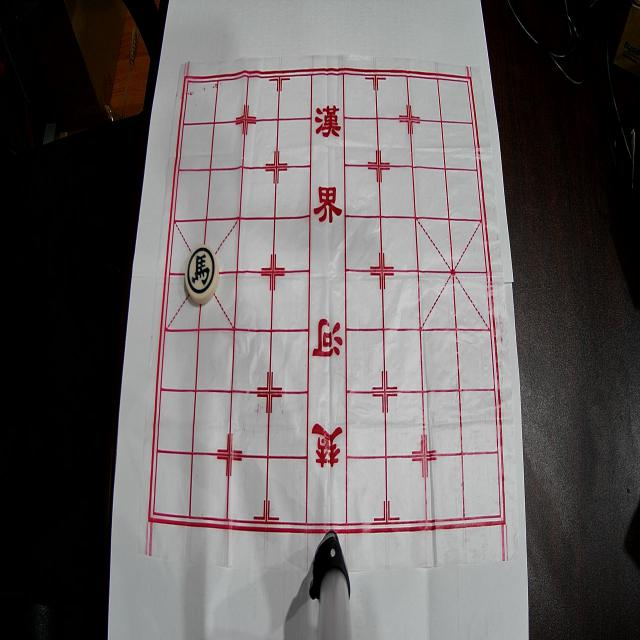black-horse: (185, 245, 219, 304)
